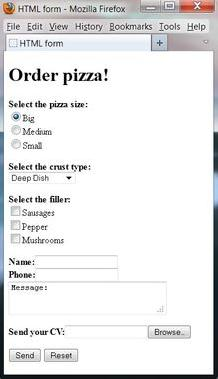button: (148, 324, 192, 339), (43, 348, 79, 362), (8, 348, 41, 363)
checkbox: (9, 204, 23, 217), (9, 217, 22, 231), (10, 232, 22, 245)
checkbox_with_label: (8, 231, 65, 246), (8, 202, 55, 218), (7, 215, 48, 232)
field: (4, 281, 169, 315), (62, 323, 148, 339), (30, 254, 118, 269), (32, 268, 119, 282), (7, 172, 76, 184)
field_with_label: (9, 321, 149, 340), (5, 163, 90, 185), (8, 268, 121, 284), (8, 253, 119, 269)
radio: (8, 109, 22, 123), (10, 138, 23, 150), (11, 123, 21, 136)
radio_with_label: (8, 121, 53, 138), (8, 136, 44, 152), (7, 108, 35, 125)
